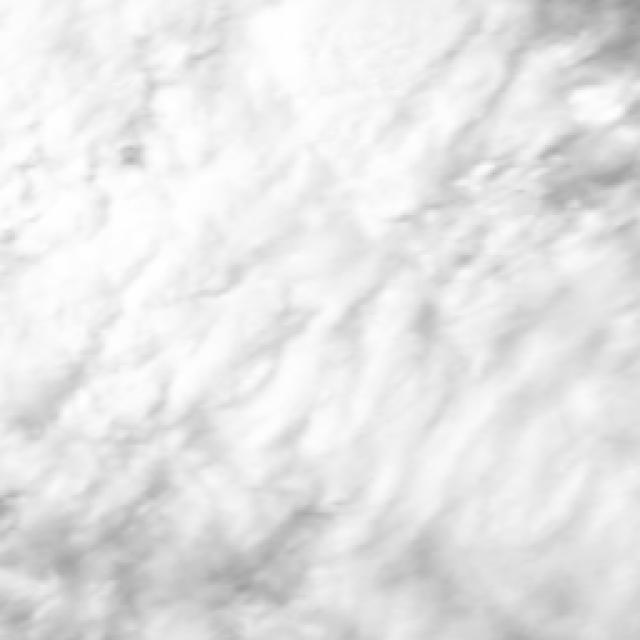CB: (62, 188, 316, 367), (244, 10, 512, 162)
